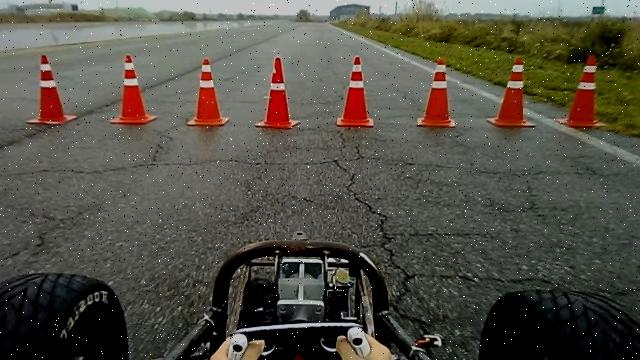red cone: (555, 53, 605, 128), (26, 54, 77, 125), (486, 55, 536, 127), (109, 54, 158, 124), (254, 56, 300, 129), (186, 57, 229, 126), (417, 56, 457, 127), (336, 55, 375, 127)
